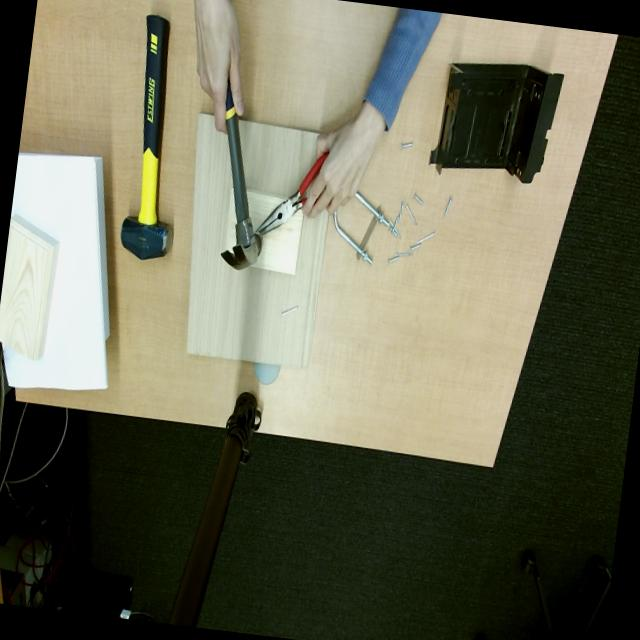hammer: (120, 15, 172, 259), (221, 83, 262, 270)
pliers: (255, 150, 328, 235)
